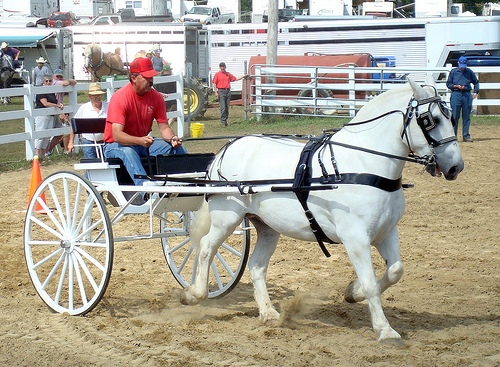horse: (179, 76, 470, 345)
